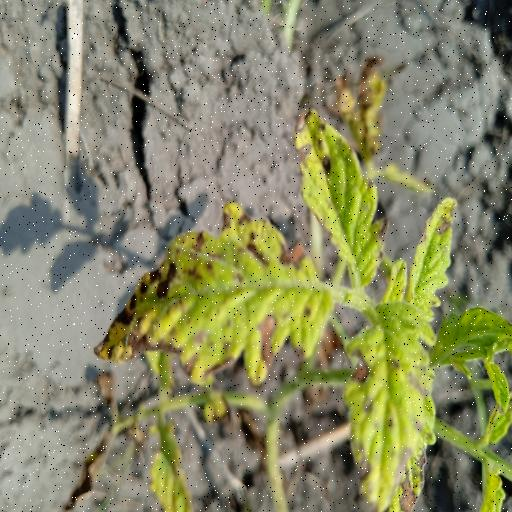Tomato_Brown_Spots: (93, 199, 346, 389), (344, 295, 439, 512), (292, 102, 385, 289)
